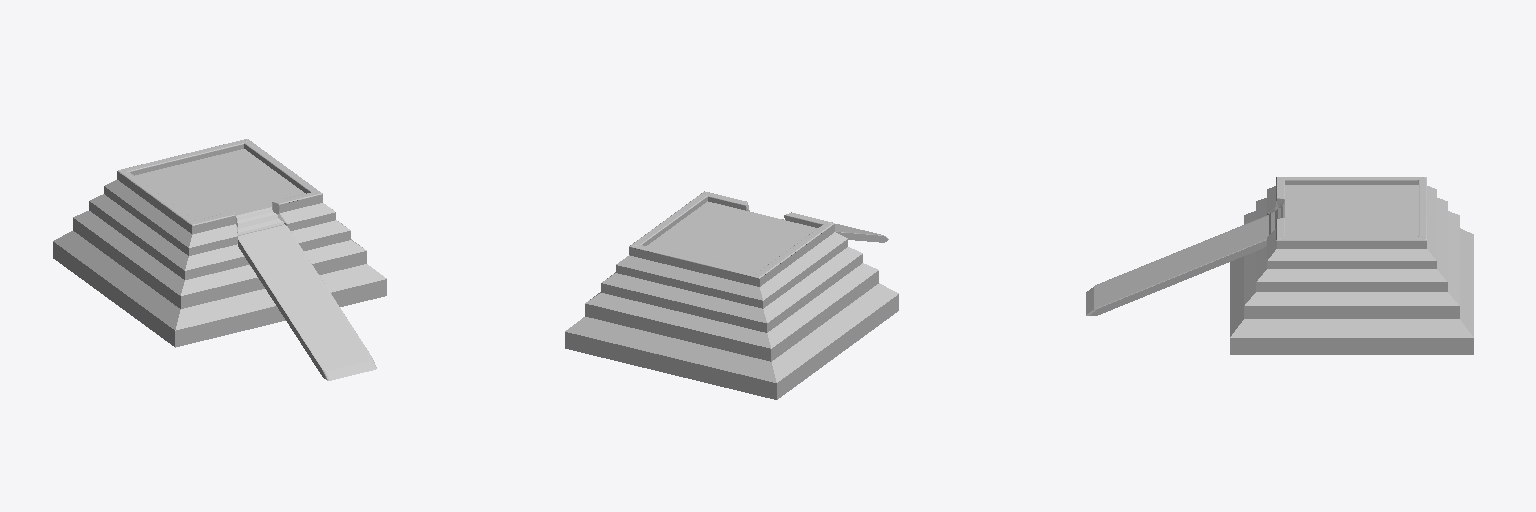
3 renders of one model, left to right at view 1: azimuth 30°, elevation 25°; view 2: azimuth 150°, elevation 25°; view 3: azimuth 270°, elevation 25°, orthographic.
Parts seen in each view (by area): view 1: pyr_Cube.001, Cube_Cube.002; view 2: pyr_Cube.001, Cube_Cube.002; view 3: pyr_Cube.001, Cube_Cube.002.
Boxes of the visible parts, x1,y1,x2,y2 form: pyr_Cube.001: [53, 139, 386, 347]; Cube_Cube.002: [238, 224, 376, 380]; pyr_Cube.001: [565, 191, 898, 399]; Cube_Cube.002: [782, 219, 888, 242]; pyr_Cube.001: [1230, 177, 1473, 354]; Cube_Cube.002: [1086, 215, 1268, 315].
Size of the model in its own units: 1 by 0.434 by 1.59.